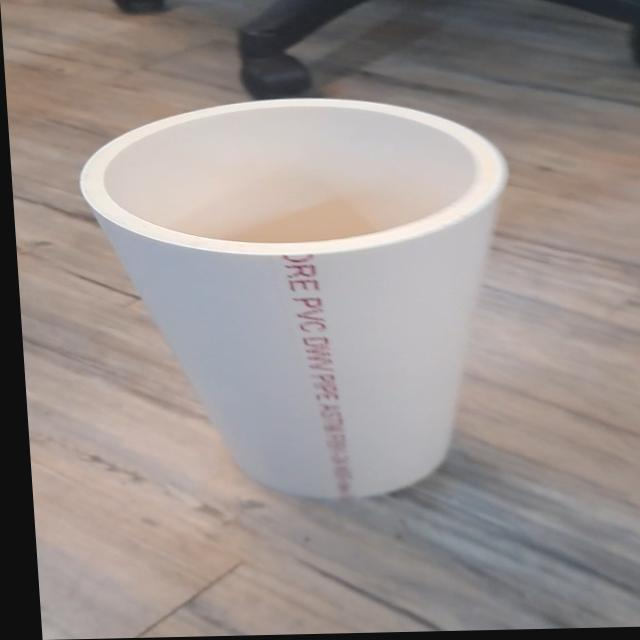CORAL: (75, 87, 567, 513)
